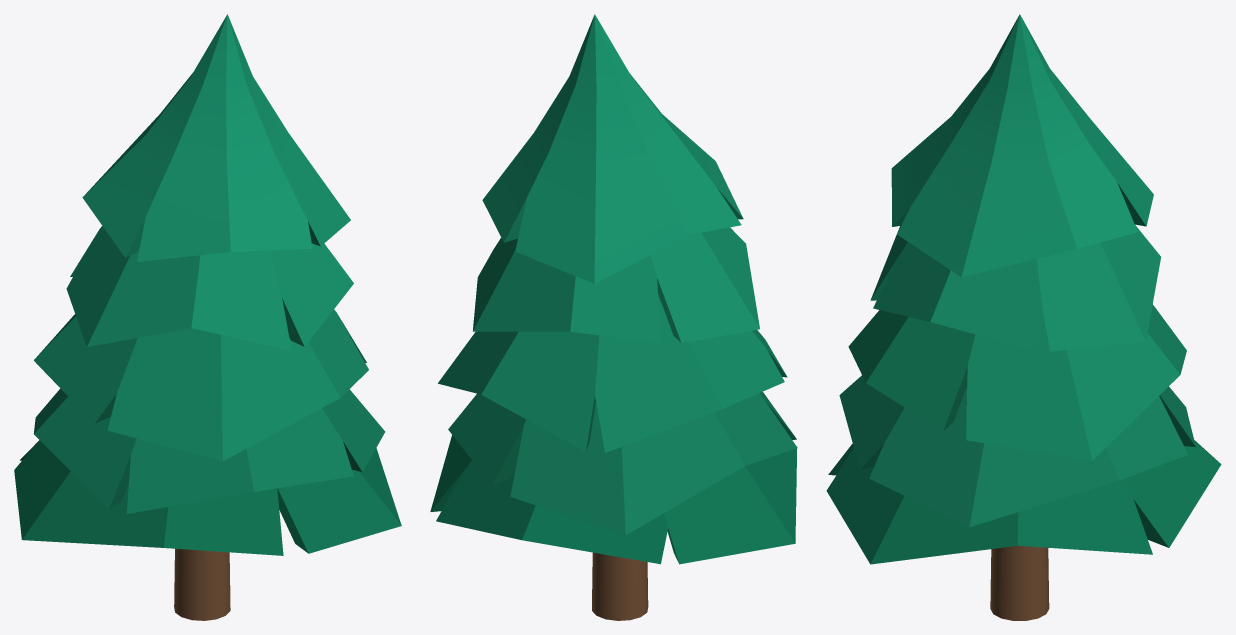
The model's file is Spruce_Turquoise_Thick_1.fbx.
The picture shows the model from 3 angles, left to right: view 1: azimuth 30°, elevation 25°; view 2: azimuth 150°, elevation 25°; view 3: azimuth 270°, elevation 25°; orthographic projection. The views are drawn at different scales.
Parts seen in each view (by area): view 1: Cylinder.1075, Cylinder.1074, Cylinder.1073, Cylinder.1071, Cylinder.1072, Cylinder.1070; view 2: Cylinder.1075, Cylinder.1074, Cylinder.1072, Cylinder.1073, Cylinder.1071, Cylinder.1070; view 3: Cylinder.1075, Cylinder.1074, Cylinder.1072, Cylinder.1073, Cylinder.1071, Cylinder.1070.
Part boxes in pixels (x1,y1,x2,y2): Cylinder.1075: [82, 14, 350, 261]; Cylinder.1074: [34, 309, 368, 461]; Cylinder.1073: [66, 226, 353, 350]; Cylinder.1071: [14, 440, 401, 555]; Cylinder.1072: [34, 388, 385, 513]; Cylinder.1070: [174, 548, 230, 620]; Cylinder.1075: [482, 14, 743, 283]; Cylinder.1074: [438, 294, 787, 452]; Cylinder.1072: [448, 391, 797, 535]; Cylinder.1073: [472, 227, 759, 343]; Cylinder.1071: [430, 435, 796, 564]; Cylinder.1070: [592, 552, 648, 620]; Cylinder.1075: [891, 14, 1153, 277]; Cylinder.1074: [848, 304, 1186, 460]; Cylinder.1072: [839, 375, 1195, 527]; Cylinder.1073: [870, 225, 1160, 351]; Cylinder.1071: [826, 440, 1221, 564]; Cylinder.1070: [990, 545, 1049, 620].
Bounding box in the file's own units: 347 × 567 × 334.
